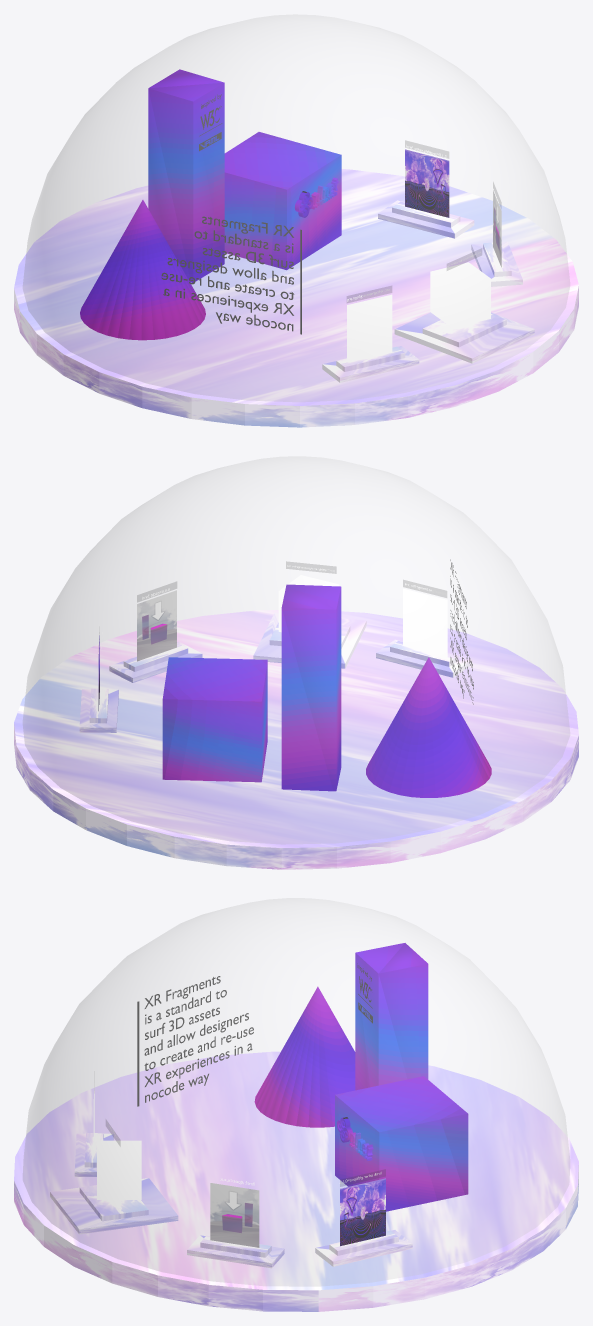
Rendered from src.gltf.
3 views of the same model, one above another, from view 1: azimuth 30°, elevation 25°; view 2: azimuth 150°, elevation 25°; view 3: azimuth 270°, elevation 25° (orthographic).
Parts seen in each view (by area): view 1: floorstone, primitives, cube, step.002, Cube, Text.001, door.002, door, step.003, step, step.001, logo_nlnet (+1 smaller); view 2: floorstone, primitives, cube, door.002, door.001, step.002, step, step.003, step.001, Text.001, Cube; view 3: floorstone, primitives, cube, step.002, door.001, Text.001, Cube, door, step.001, step, step.003, logo_nlnet.
Part boxes in pixels (x1,y1,x2,y2): floorstone: [14, 169, 578, 427]; primitives: [80, 69, 224, 340]; cube: [224, 132, 341, 270]; step.002: [394, 312, 534, 363]; Cube: [430, 262, 490, 327]; Text.001: [161, 216, 294, 331]; door.002: [347, 294, 392, 362]; door: [405, 149, 449, 217]; step.003: [322, 346, 419, 382]; step: [378, 200, 474, 238]; step.001: [471, 242, 522, 286]; logo_nlnet: [294, 177, 338, 217]; floorstone: [14, 610, 578, 869]; primitives: [281, 584, 491, 797]; cube: [162, 657, 267, 782]; door.002: [403, 588, 447, 656]; door.001: [137, 590, 176, 661]; step.002: [253, 612, 366, 668]; step: [79, 688, 118, 732]; step.003: [376, 639, 472, 677]; step.001: [109, 642, 202, 682]; Text.001: [450, 559, 473, 704]; Cube: [278, 575, 339, 632]; floorstone: [14, 1051, 578, 1311]; primitives: [254, 943, 428, 1127]; cube: [335, 1076, 468, 1211]; step.002: [50, 1178, 178, 1234]; door.001: [210, 1183, 259, 1247]; Text.001: [144, 976, 253, 1102]; Cube: [97, 1140, 141, 1199]; door: [340, 1178, 385, 1246]; step.001: [187, 1235, 284, 1268]; step: [315, 1230, 412, 1266]; step.003: [74, 1133, 113, 1176]; logo_nlnet: [337, 1117, 373, 1160].
Size of what is drawn, in the model's own units: 20.66 by 10.86 by 20.66.
Materials: 10 (3 with a texture image).
